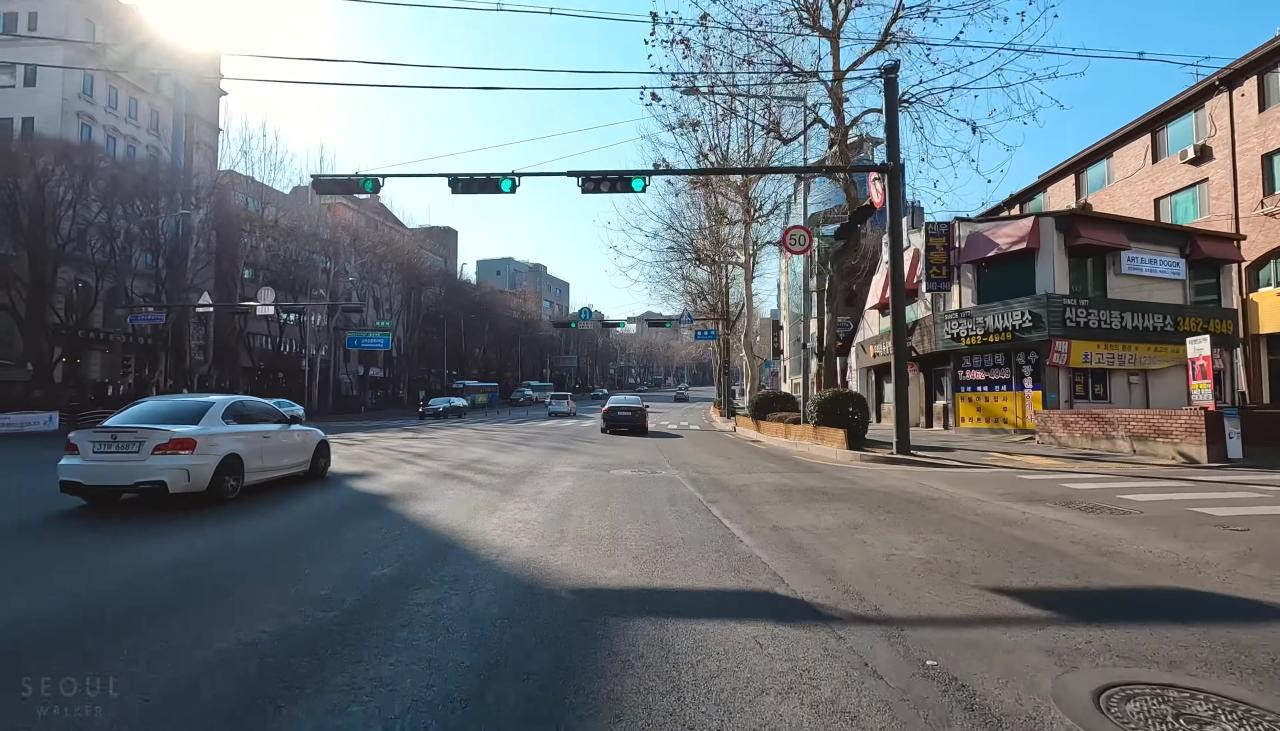Green Light: (496, 176, 516, 194), (628, 176, 646, 193), (359, 178, 374, 194), (619, 322, 625, 327), (666, 322, 671, 328), (572, 321, 576, 328)
